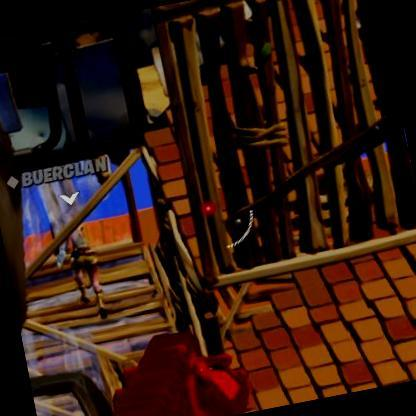person: (58, 204, 110, 310)
